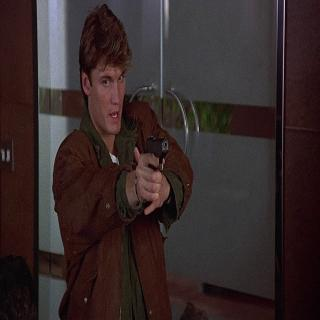gun: (138, 132, 170, 200)
